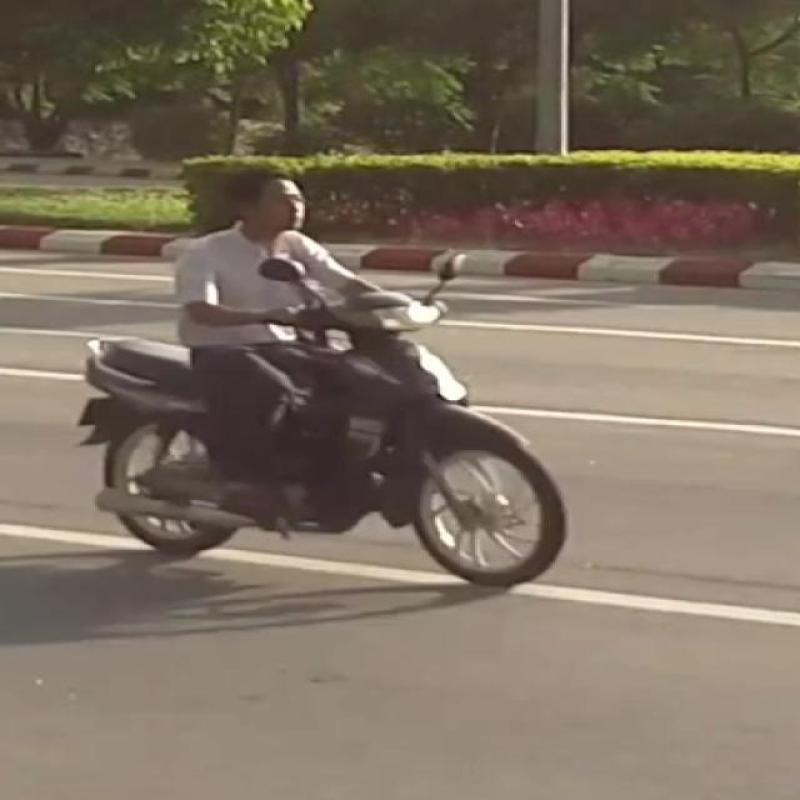nohelmet: (197, 126, 332, 255)
